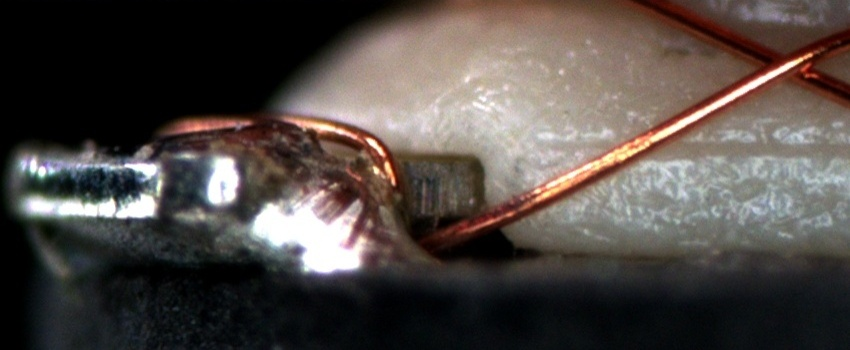CL: (727, 34, 845, 92)
DL: (533, 116, 850, 176)
TE: (159, 111, 414, 208)
